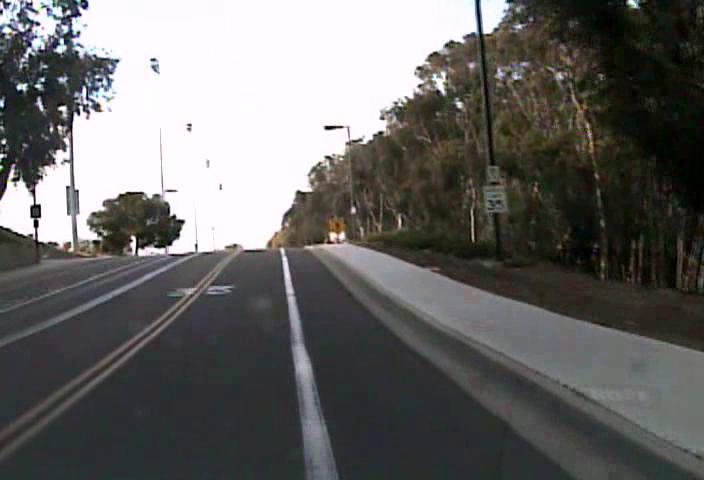speedLimit35: (481, 182, 507, 213)
